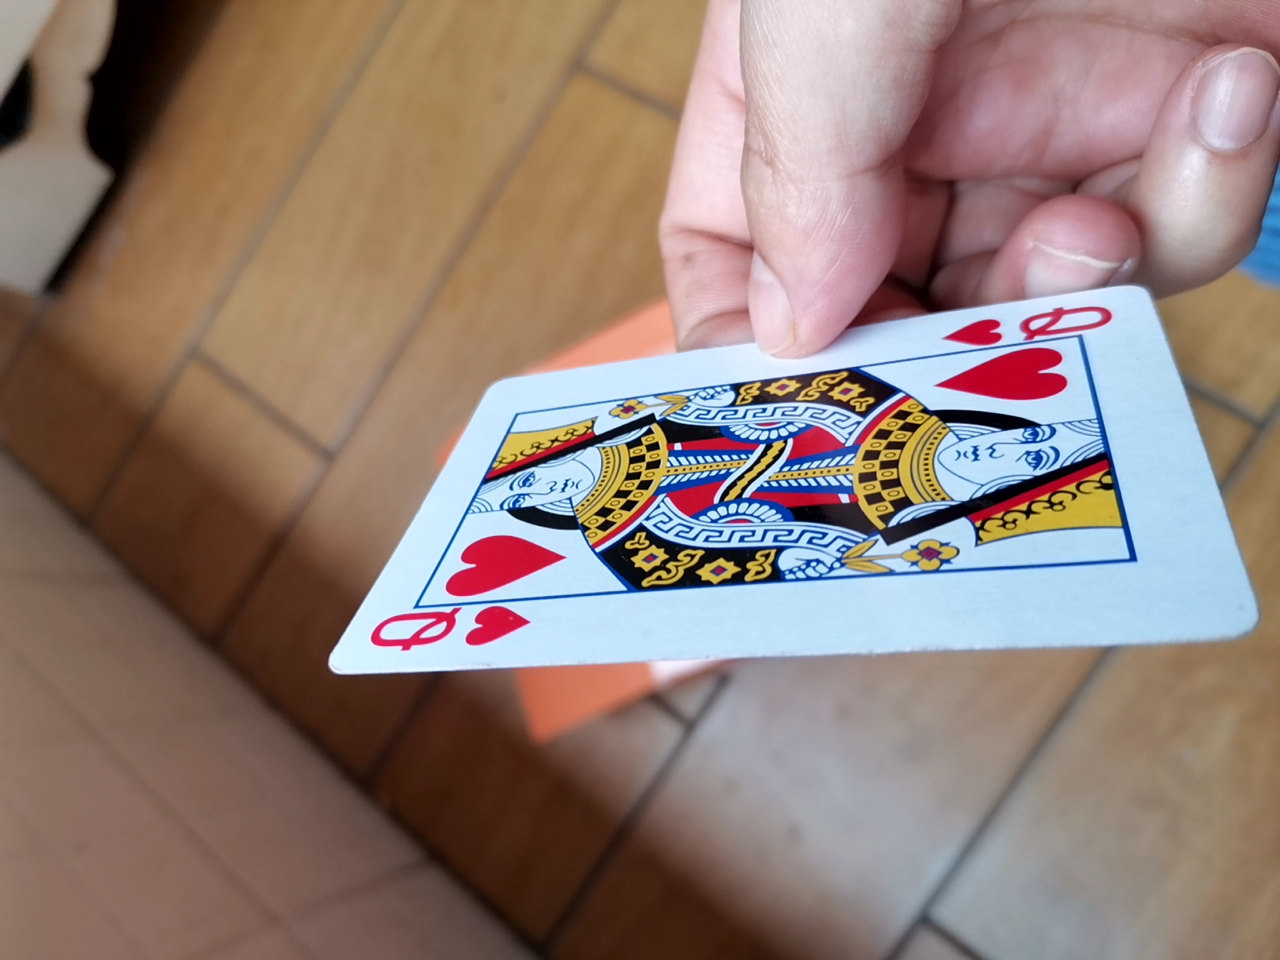hx q: (301, 279, 1265, 682)
